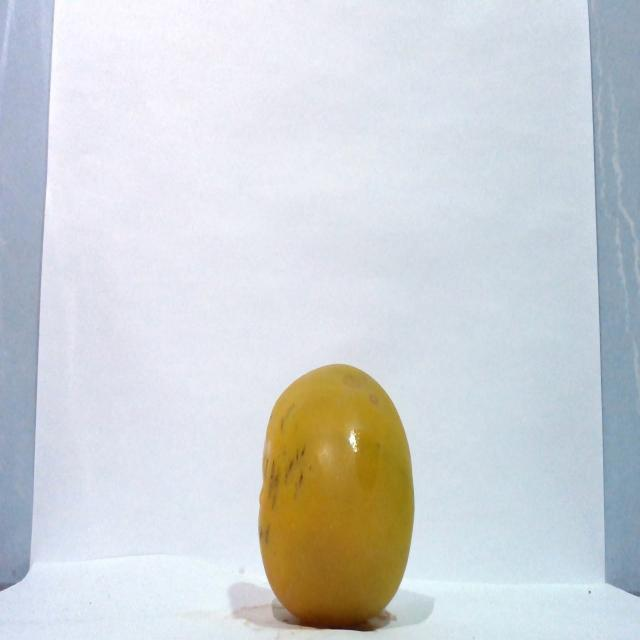Red: (256, 361, 415, 627)
